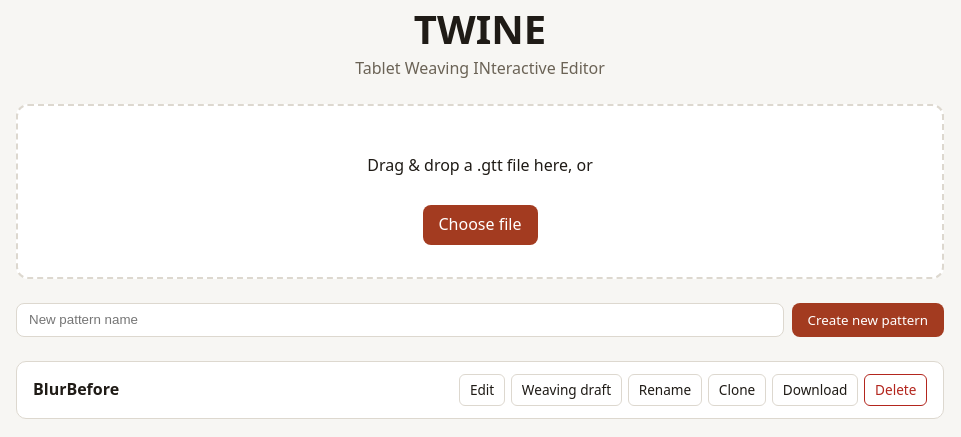
Test: PatternSelectionPage › commits a rename on blur
expect the text "BlurBefore" is shown: met, box [33, 378, 119, 400]
Click the button "Rename": click(665, 390) [628, 374, 702, 406]
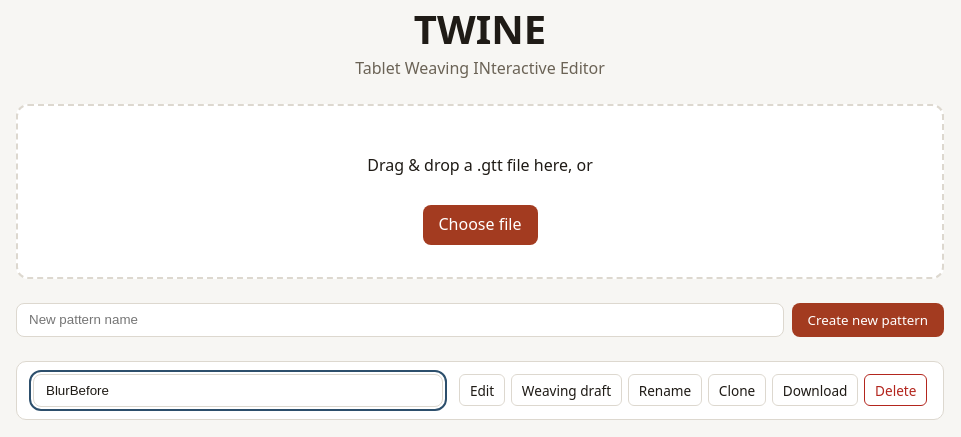
Replace the text in the field named "Rename BlurBefore" with "BlurAfter": (238, 390) [33, 374, 443, 407]
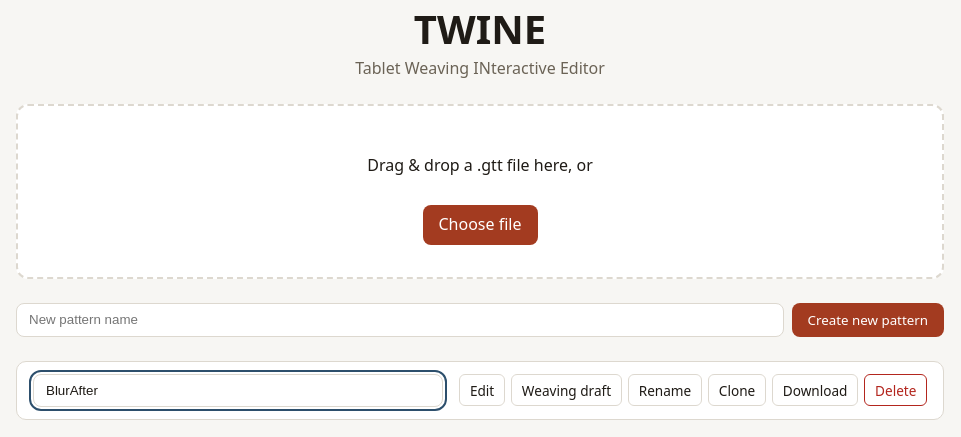
Leave the field named "Rename BlurBefore", box [33, 374, 443, 407]
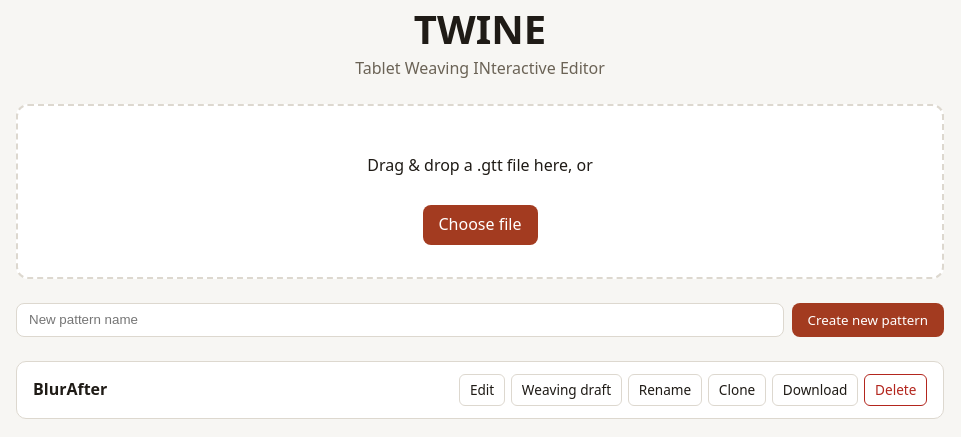
expect the text "BlurAfter" is shown: met, box [33, 378, 107, 400]
